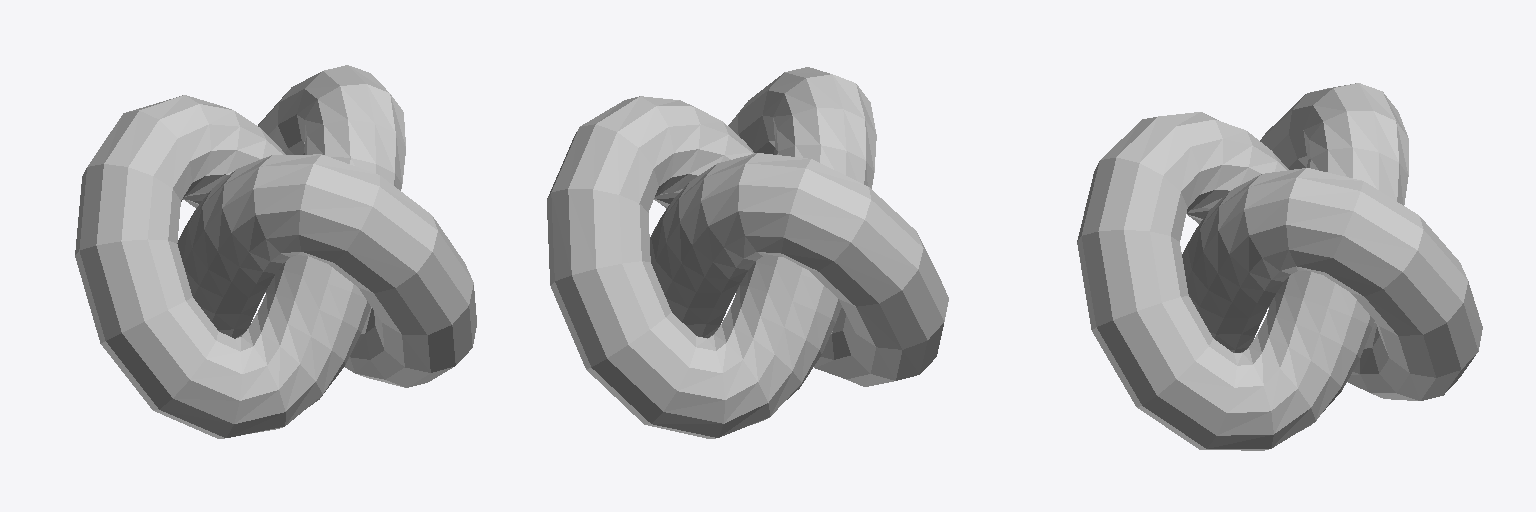
Rendered from TorusKnot.obj.
3 views of the same model, side by side, from view 1: azimuth 30°, elevation 25°; view 2: azimuth 150°, elevation 25°; view 3: azimuth 270°, elevation 25° (orthographic).
Parts seen in each view (by area): view 1: Torus_Knot001; view 2: Torus_Knot001; view 3: Torus_Knot001.
Part boxes in pixels (x1,y1,x2,y2): Torus_Knot001: (75,65,476,438); Torus_Knot001: (547,67,948,438); Torus_Knot001: (1077,83,1482,450).
Size of the model in its own units: 1.9 by 1.53 by 2.04.